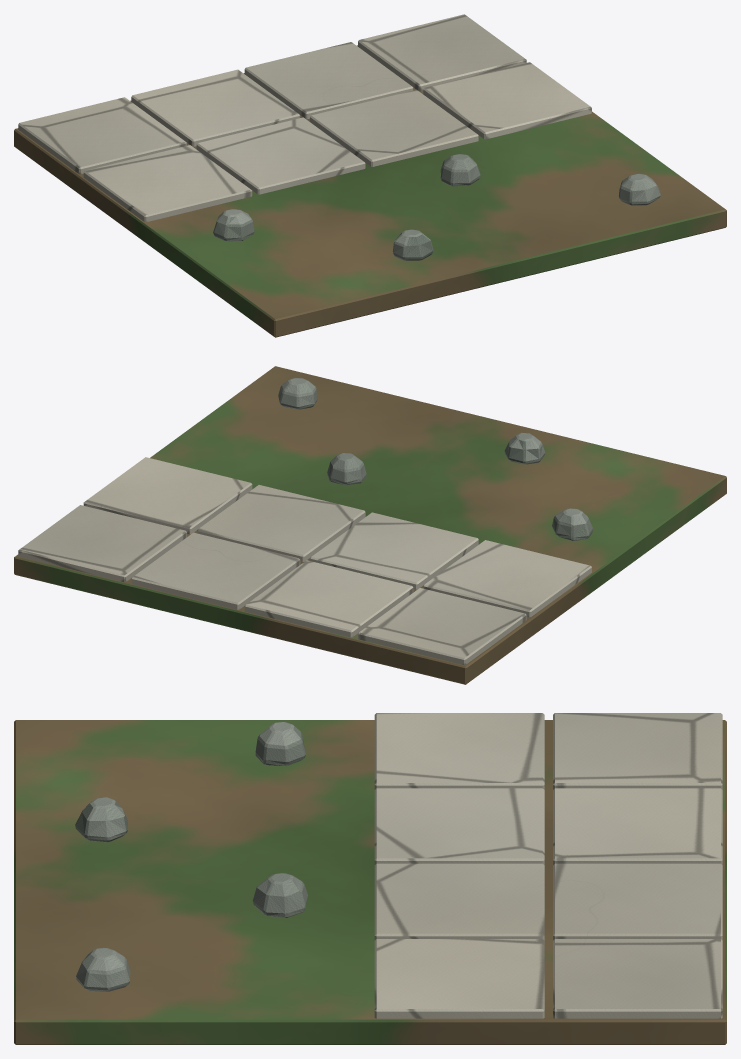
File: t05_transition_straight.fbx
3 views of the same model, one above another, from view 1: azimuth 30°, elevation 25°; view 2: azimuth 150°, elevation 25°; view 3: azimuth 270°, elevation 25° (orthographic). The views are drawn at different scales.
Visible parts, largest first — view 1: t05_transition_straight.004; view 2: t05_transition_straight.004; view 3: t05_transition_straight.004.
Boxes of the visible parts, x1=… form: t05_transition_straight.004: x1=14, y1=14, x2=726, y2=337; t05_transition_straight.004: x1=14, y1=366, x2=726, y2=684; t05_transition_straight.004: x1=14, y1=713, x2=726, y2=1044.
Bounding box in the file's own units: 25600 × 25600 × 2200.
